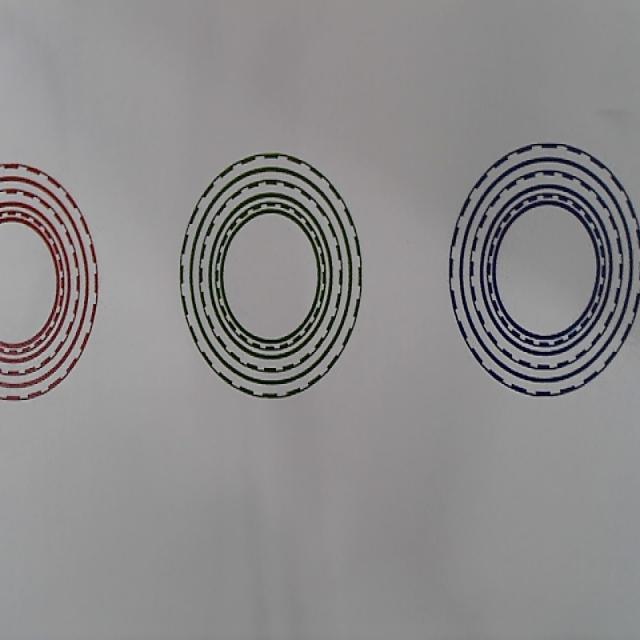b: (449, 142, 640, 398)
g: (180, 152, 362, 398)
